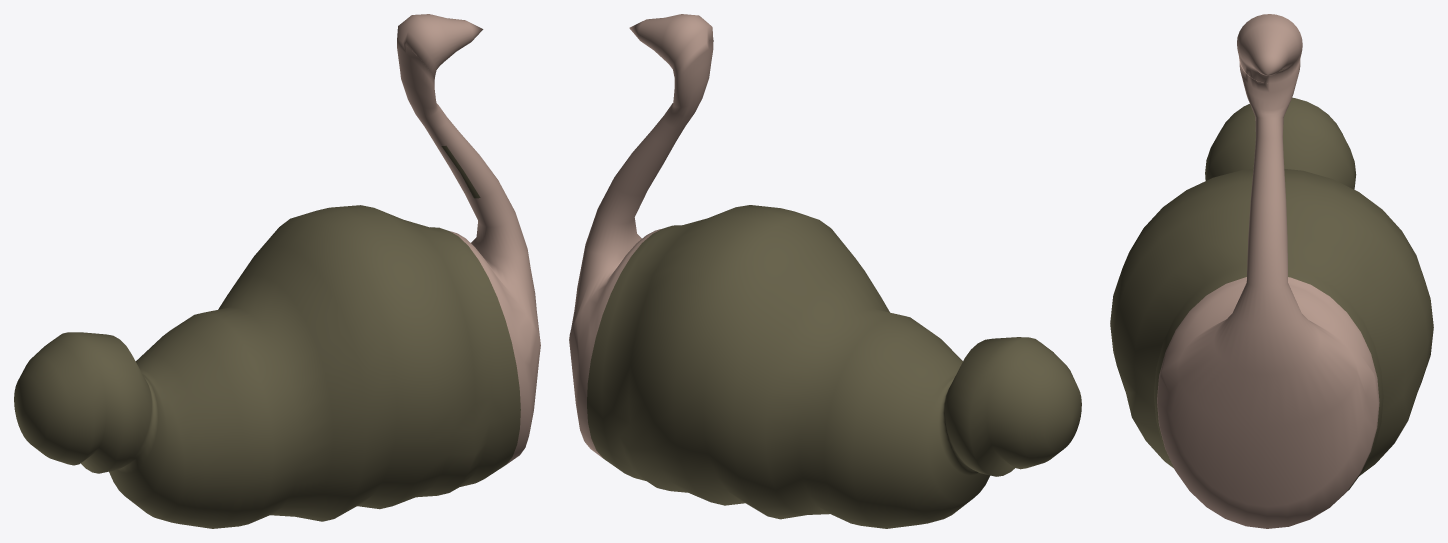
The model's file is ostrich body.fbx.
3 views of the same model, side by side, from view 1: azimuth 30°, elevation 25°; view 2: azimuth 150°, elevation 25°; view 3: azimuth 270°, elevation 25° (orthographic). The views are drawn at different scales.
Parts seen in each view (by area): view 1: Cylinder; view 2: Cylinder; view 3: Cylinder.
Boxes of the visible parts, x1,y1,x2,y2 form: Cylinder: [14, 14, 540, 528]; Cylinder: [569, 14, 1081, 528]; Cylinder: [1110, 14, 1433, 528].
Bounding box in the file's own units: 1.25 × 1.13 × 0.6736.
